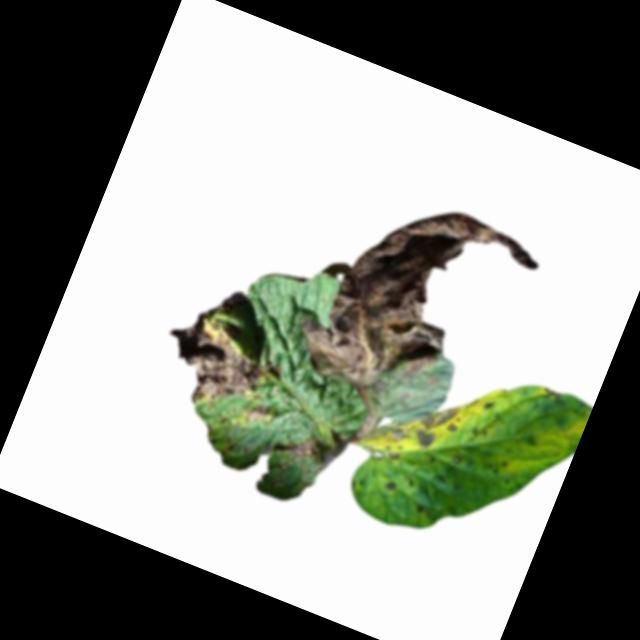Early_blight: (286, 172, 548, 433), (145, 295, 282, 426), (363, 372, 473, 477), (272, 425, 340, 473), (242, 400, 273, 431), (381, 479, 400, 497), (450, 452, 464, 467), (482, 400, 497, 414)
